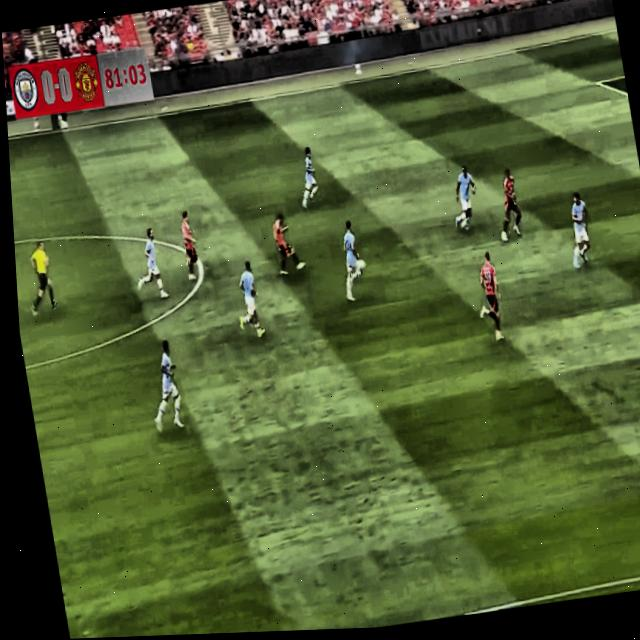ball: (356, 253, 367, 273)
players: (137, 330, 189, 440), (467, 244, 515, 351), (485, 148, 533, 254), (123, 219, 176, 309), (226, 255, 276, 350), (439, 150, 488, 241), (262, 205, 310, 288), (558, 181, 600, 275), (169, 204, 206, 287), (333, 210, 365, 305), (289, 139, 327, 212)
refree: (18, 235, 62, 318)
